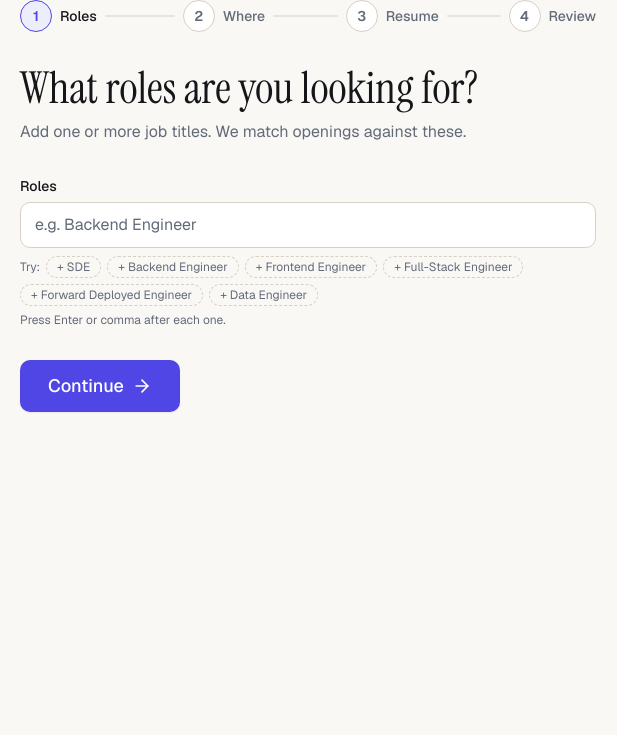
OnboardingWizard › requires an experience level on step 2
Step 1. Type "SWE" into the field labelled "Roles" → [308, 225], box top-left (29, 209), bottom-right (587, 241)
Then press Enter
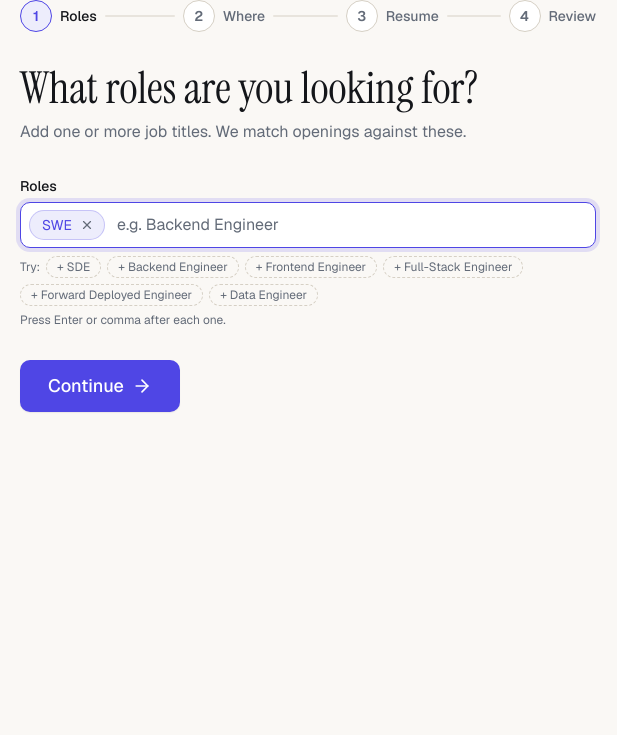
Step 2. Click the button "Continue" → [100, 386], box top-left (20, 360), bottom-right (180, 412)
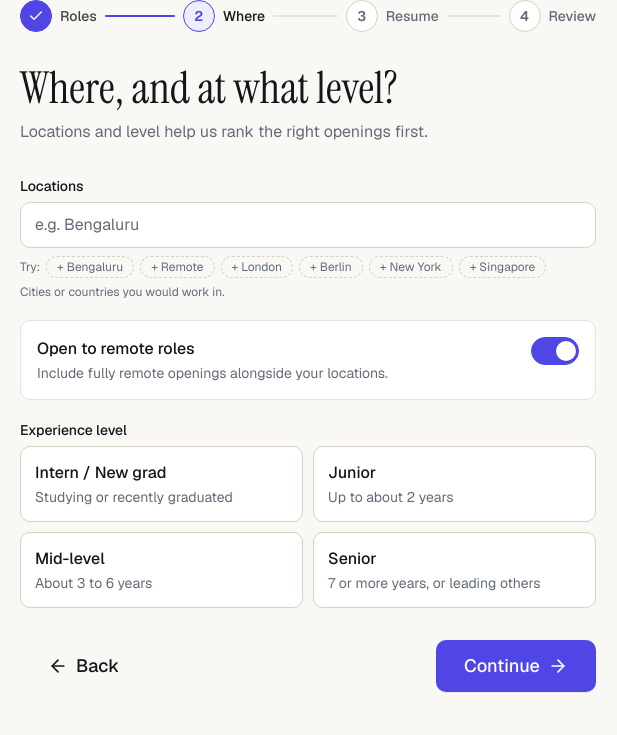
Step 3. Click the button "Continue" → [516, 666], box top-left (436, 640), bottom-right (596, 692)
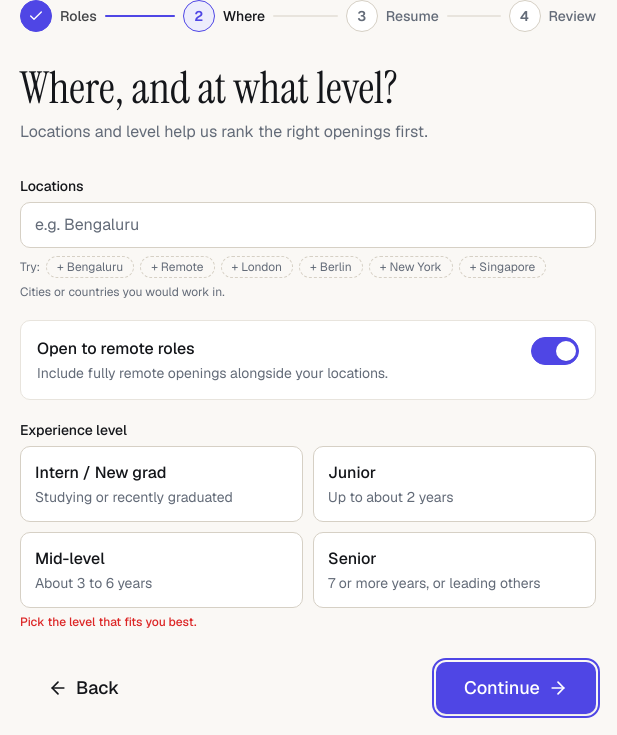
Result: the text "Pick the level that fits you best." is shown at top-left (20, 614), bottom-right (196, 630)
